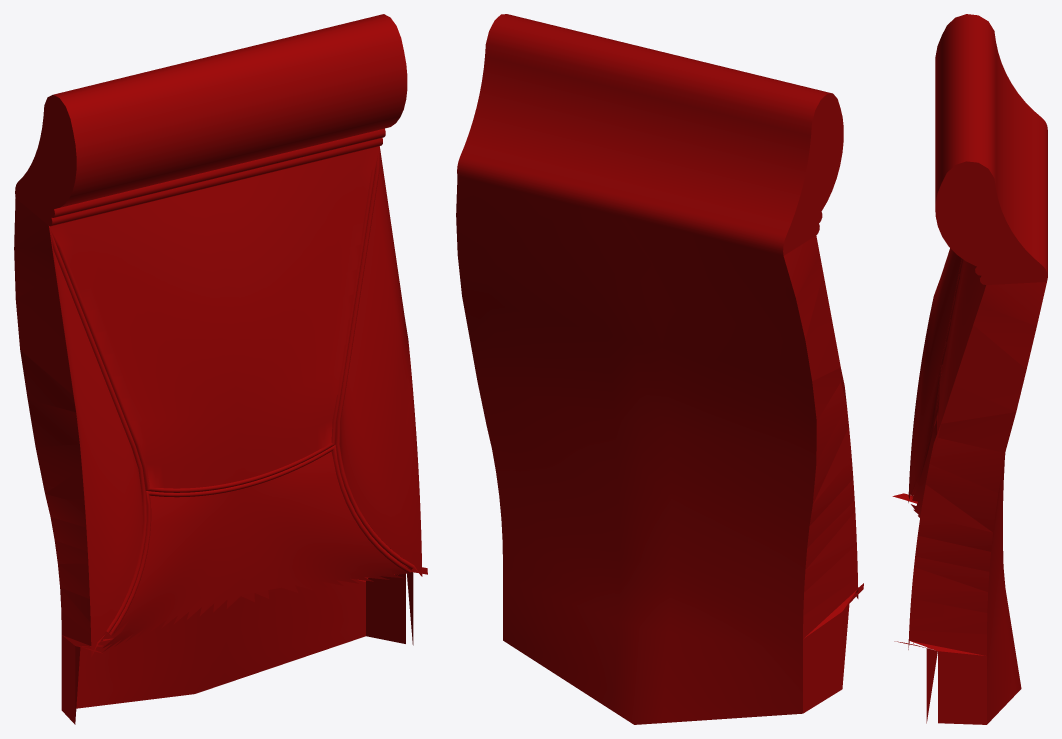
3 views of the same model, side by side, from view 1: azimuth 30°, elevation 25°; view 2: azimuth 150°, elevation 25°; view 3: azimuth 270°, elevation 25° (orthographic). The views are drawn at different scales.
Size of the model in its own units: 0.7201 by 1.28 by 0.2996.
